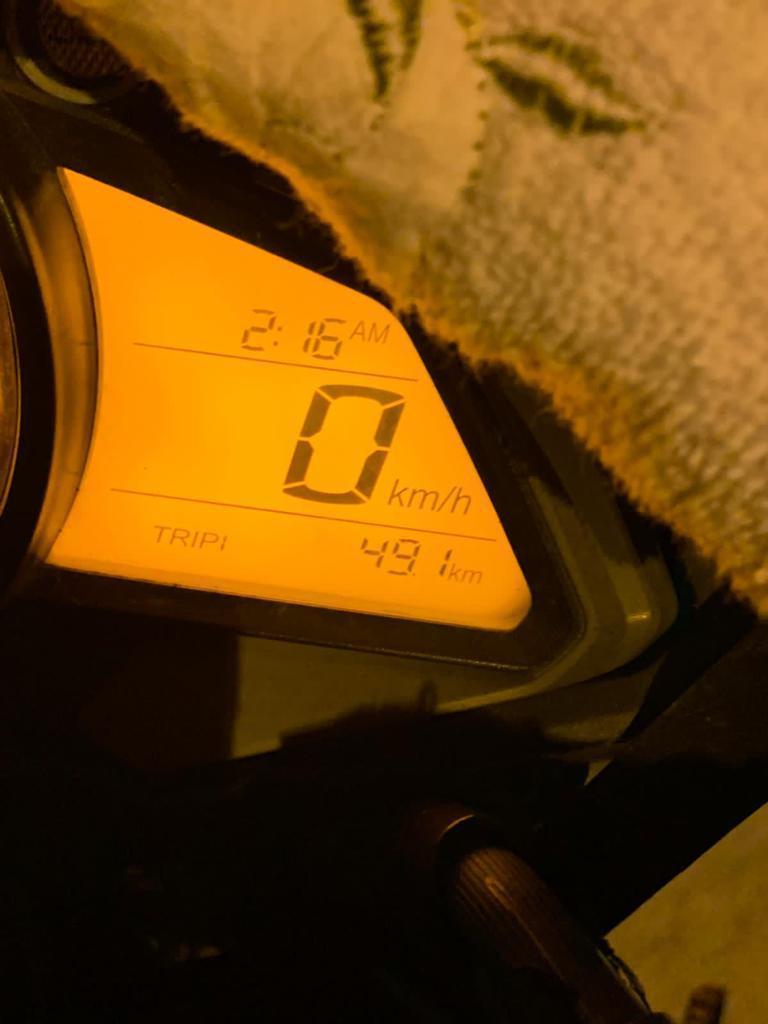,: (411, 570, 418, 581)
0: (279, 376, 407, 506)
1: (301, 315, 314, 358), (437, 544, 451, 578), (220, 533, 229, 552)
2: (240, 305, 275, 353)
4: (358, 535, 390, 568)
6: (314, 315, 346, 360)
9: (388, 533, 421, 577)
X: (407, 485, 437, 512), (451, 484, 473, 519), (387, 476, 407, 509), (437, 482, 456, 512), (366, 321, 390, 344), (348, 318, 366, 344), (200, 527, 219, 551), (170, 525, 188, 548), (461, 568, 483, 585), (153, 522, 170, 543), (273, 325, 283, 349), (188, 528, 198, 552), (448, 563, 460, 582)
odometer: (27, 161, 548, 634)
